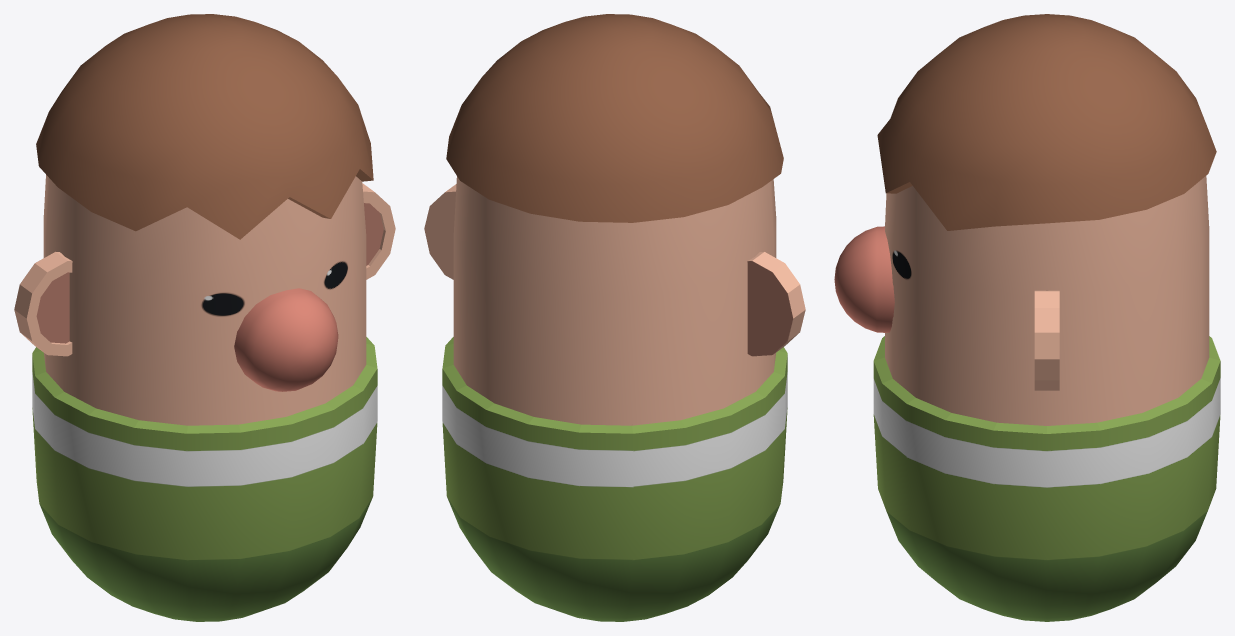
The model's file is orangijo.fbx.
3 renders of one model, left to right at view 1: azimuth 30°, elevation 25°; view 2: azimuth 150°, elevation 25°; view 3: azimuth 270°, elevation 25°, orthographic.
Parts seen in each view (by area): view 1: pasted__pSphere22; view 2: pasted__pSphere22; view 3: pasted__pSphere22.
Part boxes in pixels (left/top/right/bottom): pasted__pSphere22: left=14, top=14, right=395, bottom=621; pasted__pSphere22: left=424, top=14, right=805, bottom=621; pasted__pSphere22: left=834, top=14, right=1220, bottom=621.
Size of the model in its own units: 509 by 757 by 461.
Materials: 1 (1 with a texture image).
